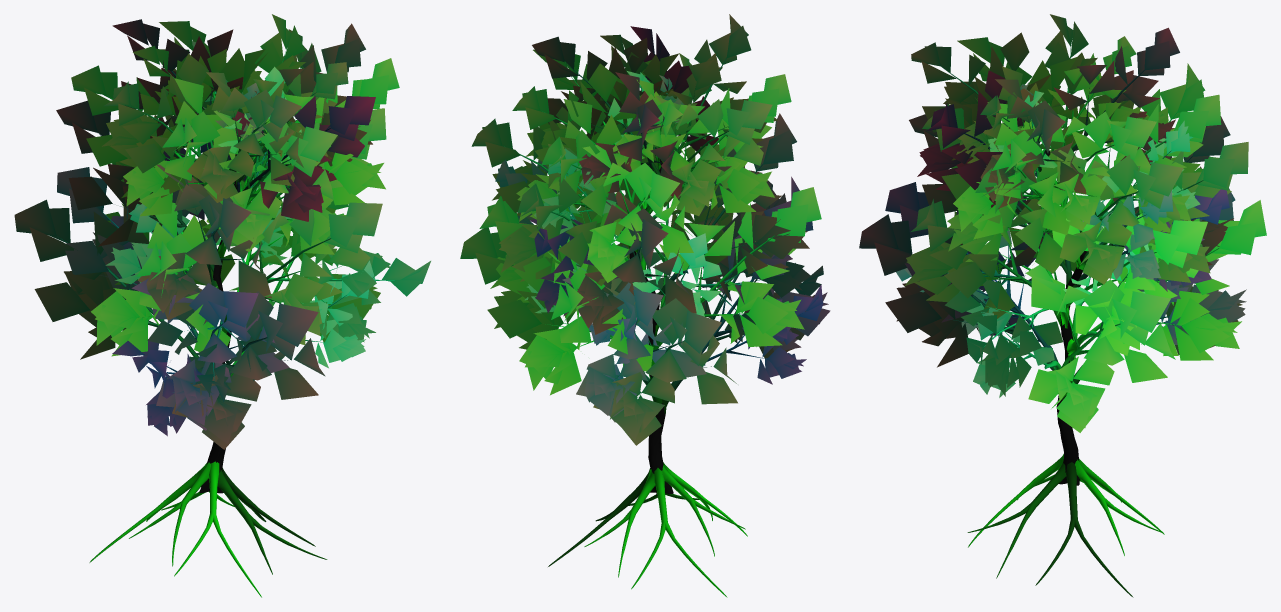
Rendered from tree_3.fbx.
3 views of the same model, side by side, from view 1: azimuth 30°, elevation 25°; view 2: azimuth 150°, elevation 25°; view 3: azimuth 270°, elevation 25° (orthographic). The views are drawn at different scales.
Parts seen in each view (by area): view 1: elm leaf_1, bark07_0; view 2: elm leaf_1, bark07_0; view 3: elm leaf_1, bark07_0.
Part boxes in pixels (<box>): elm leaf_1: <box>14,14,430,449</box>; bark07_0: <box>57,51,394,597</box>; elm leaf_1: <box>460,14,830,445</box>; bark07_0: <box>503,57,805,597</box>; elm leaf_1: <box>859,14,1266,432</box>; bark07_0: <box>899,47,1219,597</box>.
Size of the model in its own units: 796 by 1298 by 937.
